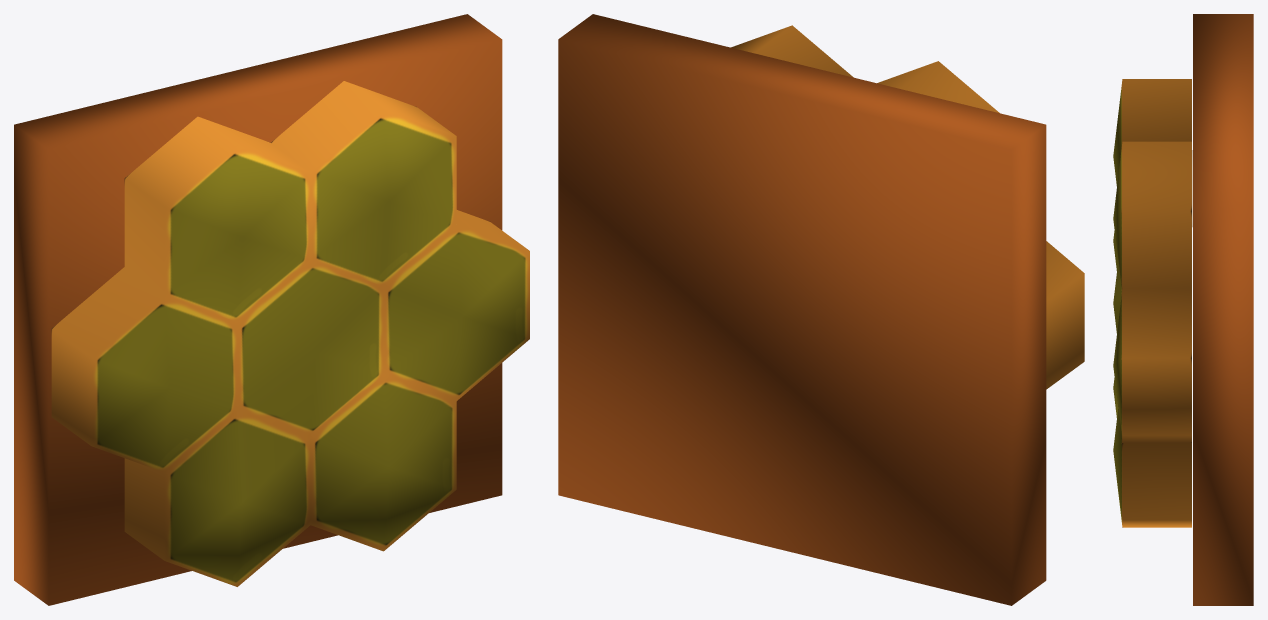
Rendered from Assets2Arthur.fbx_pareceCera.fbx.
3 views of the same model, side by side, from view 1: azimuth 30°, elevation 25°; view 2: azimuth 150°, elevation 25°; view 3: azimuth 270°, elevation 25° (orthographic). The views are drawn at different scales.
Visible parts, largest first — view 1: paredeCera; view 2: paredeCera; view 3: paredeCera.
Boxes of the visible parts, x1,y1,x2,y2 form: paredeCera: (14,14,529,605); paredeCera: (558,14,1084,605); paredeCera: (1113,14,1253,605).
Size of the model in its own units: 167 by 160 by 51.11.
